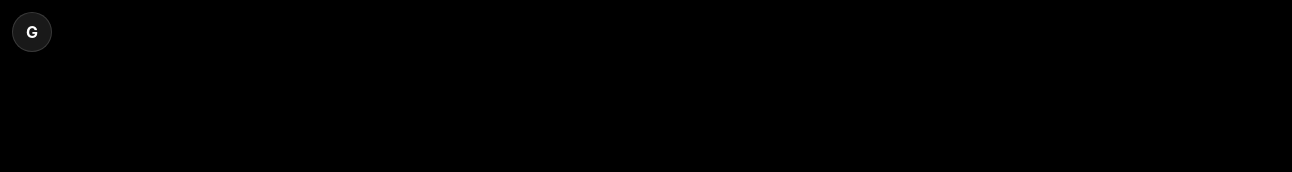
AccountMenu abre com perfil e sair, e fecha com Esc
Expected: the link "Meu perfil" is not shown
Click the button named "Conta de Gabriel".
click(32, 32)  # box top-left (12, 12), bottom-right (52, 52)
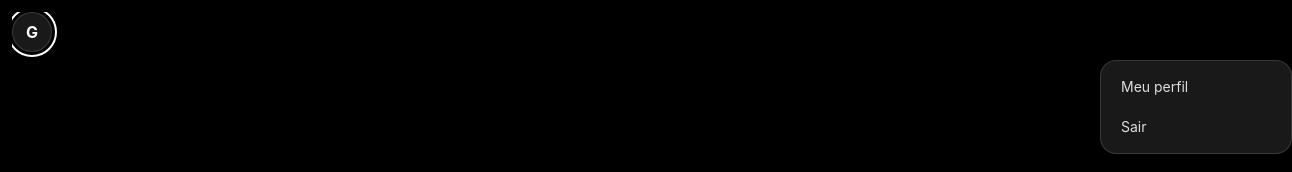
Now the form named "volta" holds "/filme/12", box top-left (1107, 107), bottom-right (1285, 147)
Press Escape
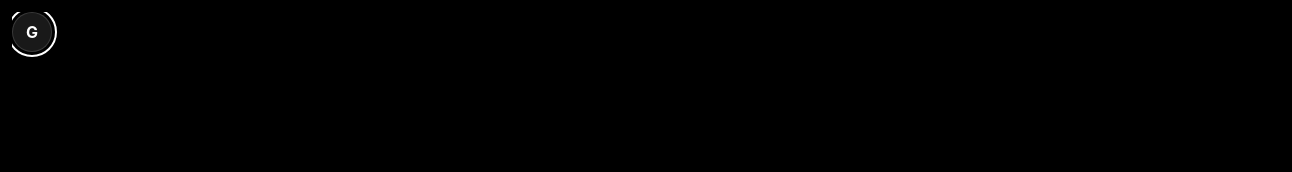
Now the link "Meu perfil" is gone
